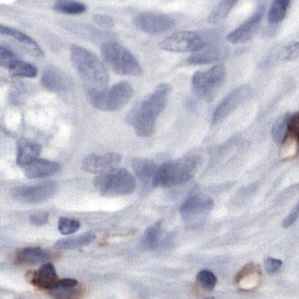Lymphocyte: (30, 264, 61, 290)
